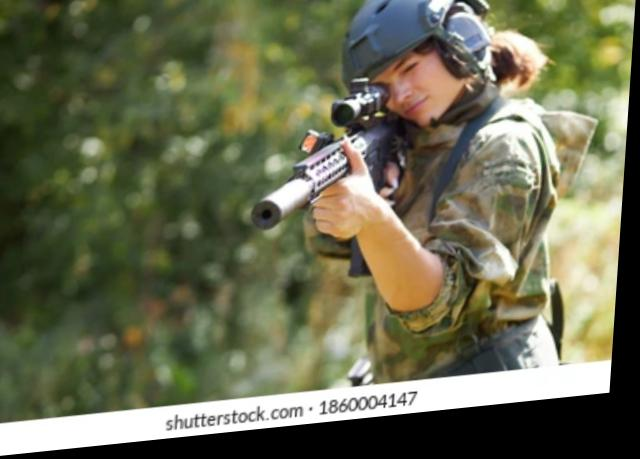other: (314, 0, 577, 393)
